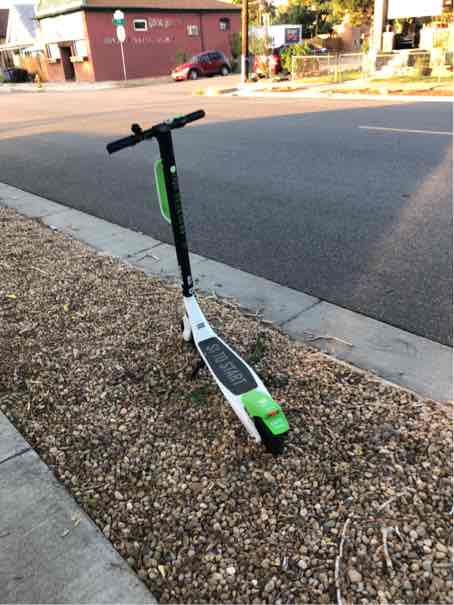scooter: (91, 96, 305, 462)
